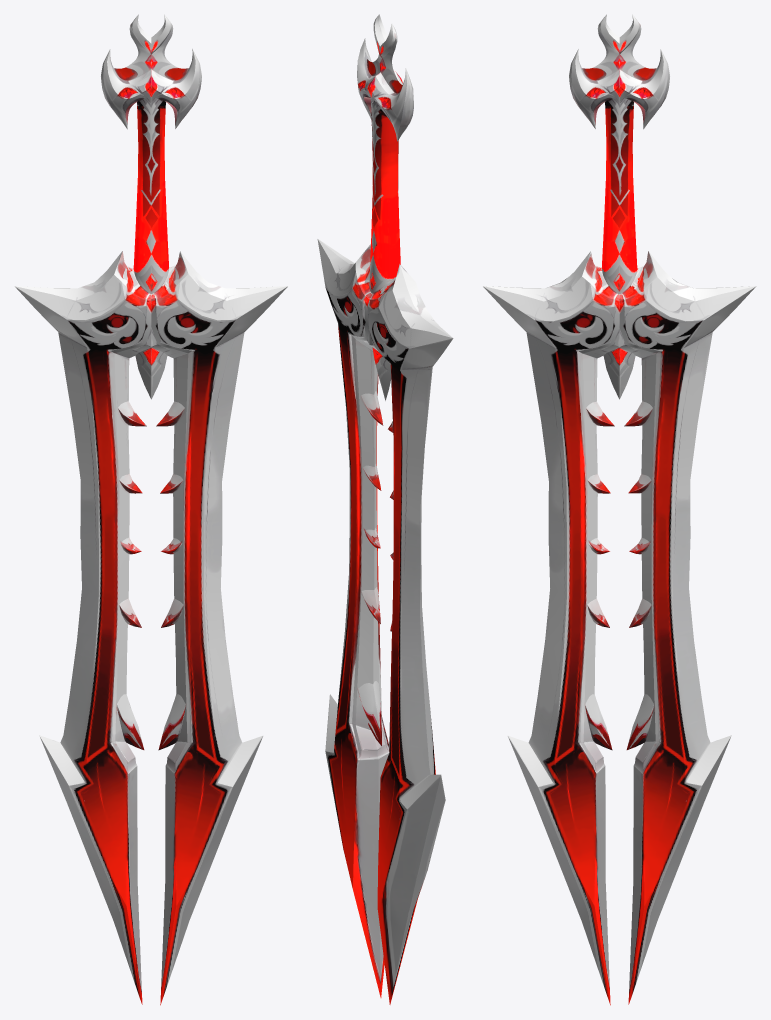
Rendered from ossabite_compressed.fbx.
3 views of the same model, side by side, from view 1: azimuth 90°, elevation 25°; view 2: azimuth 210°, elevation 25°; view 3: azimuth 270°, elevation 25° (orthographic).
Parts seen in each view (by area): view 1: Ossabite; view 2: Ossabite; view 3: Ossabite.
Boxes of the visible parts, x1=… form: Ossabite: x1=14, y1=14, x2=287, y2=1005; Ossabite: x1=317, y1=14, x2=453, y2=1004; Ossabite: x1=483, y1=14, x2=756, y2=1005.
Size of the model in its own units: 4.42 by 25.21 by 101.
1 material, 1 textured.
